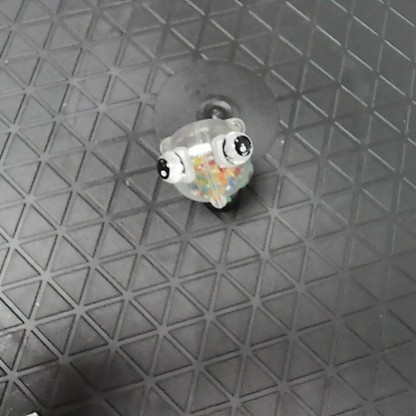whitefish: (154, 114, 260, 211)
